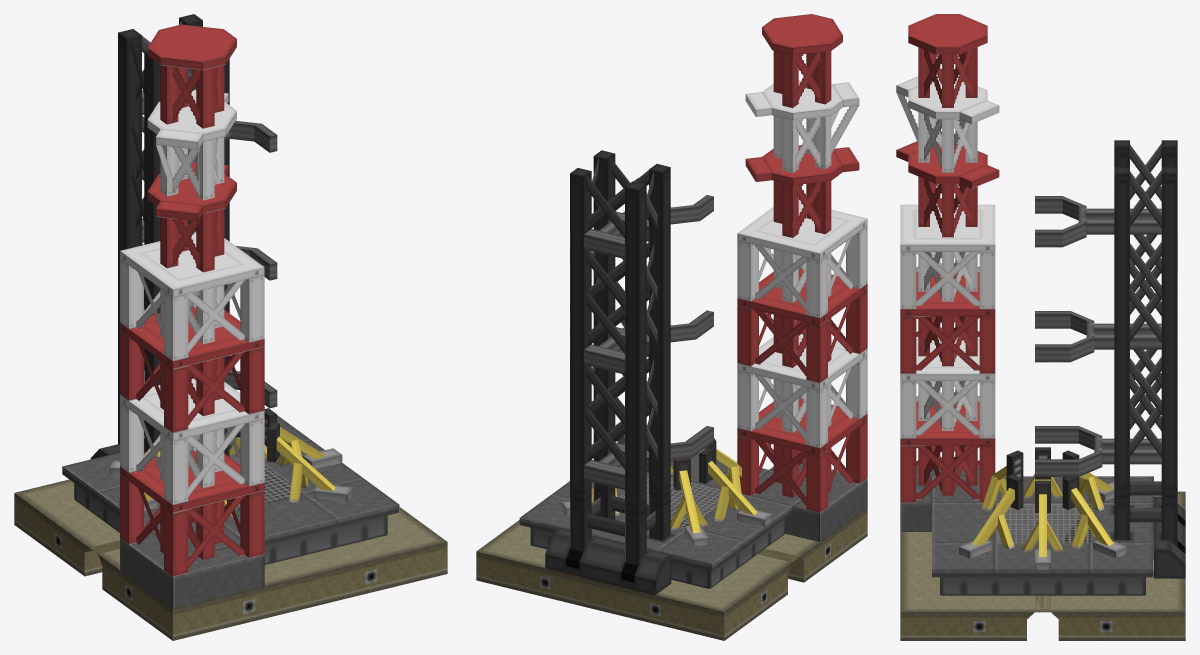
Rendered from launch_pad_large.obj.
3 views of the same model, side by side, from view 1: azimuth 30°, elevation 25°; view 2: azimuth 150°, elevation 25°; view 3: azimuth 270°, elevation 25° (orthographic). The views are drawn at different scales.
Visible parts, largest first — view 1: Atlas_Pad, Pad, Atlas_Erector; view 2: Atlas_Pad, Atlas_Erector, Pad, Atlas_Pivot; view 3: Atlas_Pad, Atlas_Erector, Pad, Atlas_Pivot.
Boxes of the visible parts, x1,y1,x2,y2 form: Atlas_Pad: (62, 24, 399, 608); Pad: (14, 479, 447, 640); Atlas_Erector: (118, 14, 277, 408); Atlas_Pad: (519, 14, 867, 595); Atlas_Erector: (570, 150, 713, 514); Pad: (476, 507, 867, 640); Atlas_Pivot: (570, 482, 670, 565); Atlas_Pad: (896, 14, 1185, 595); Atlas_Erector: (1035, 140, 1177, 496); Pad: (900, 491, 1185, 640); Atlas_Pivot: (1114, 481, 1177, 546).
Size of the model in its own units: 9.12 by 17.75 by 9.12.
